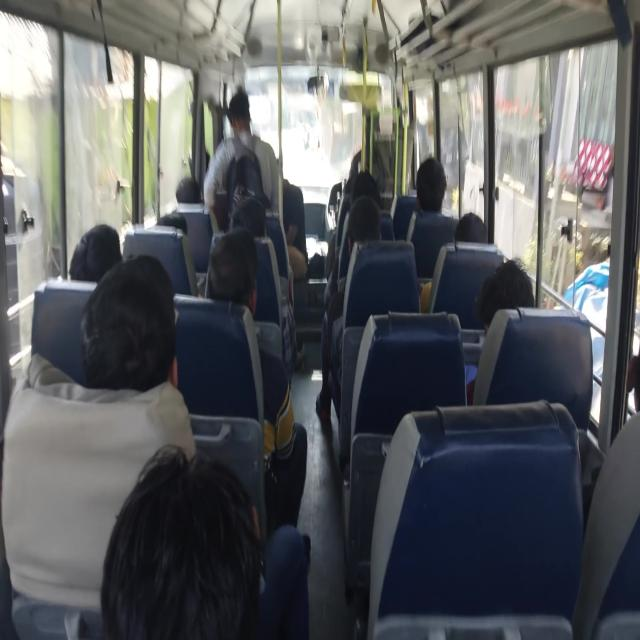person: (102, 446, 266, 637), (80, 255, 176, 394), (404, 158, 460, 289), (418, 213, 488, 315), (474, 258, 536, 330), (206, 229, 258, 311), (68, 224, 123, 284), (167, 180, 211, 252), (346, 194, 382, 250), (414, 157, 448, 214), (280, 178, 309, 241), (230, 197, 268, 240), (351, 170, 381, 212), (454, 211, 488, 245), (155, 213, 189, 236), (228, 90, 252, 122), (175, 177, 202, 204)
